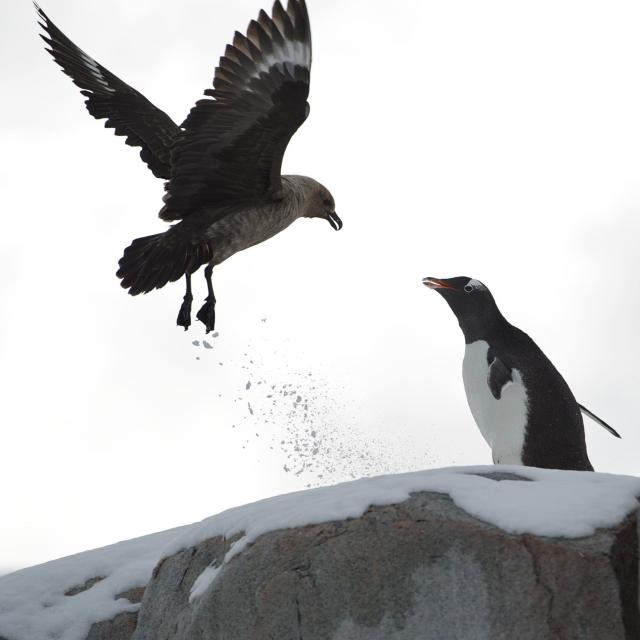Penguins: (406, 257, 612, 476)
